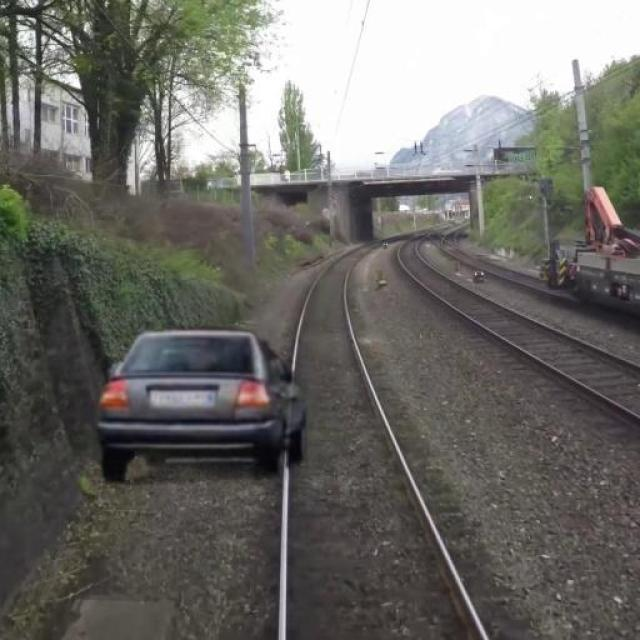vehicle: (96, 317, 309, 476)
